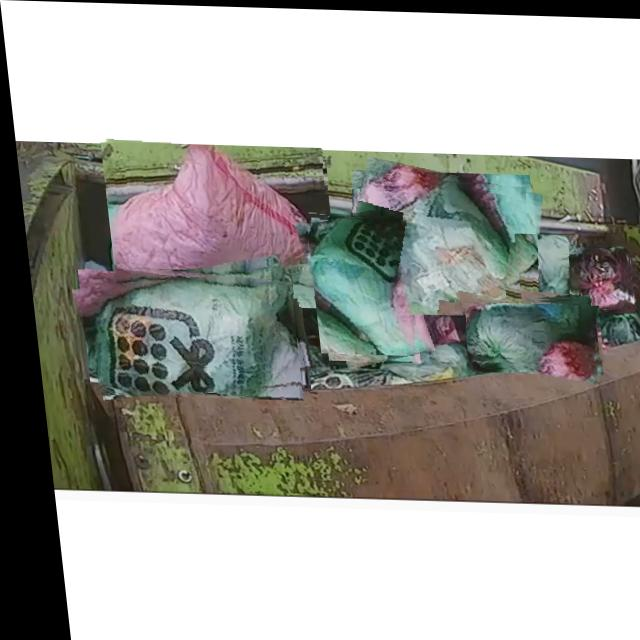general_trashbag: (350, 178, 523, 313), (91, 276, 284, 395), (306, 214, 410, 354), (459, 302, 593, 364), (512, 232, 572, 298)
other_trashbag: (107, 143, 324, 297), (463, 245, 524, 324), (564, 245, 626, 307)
